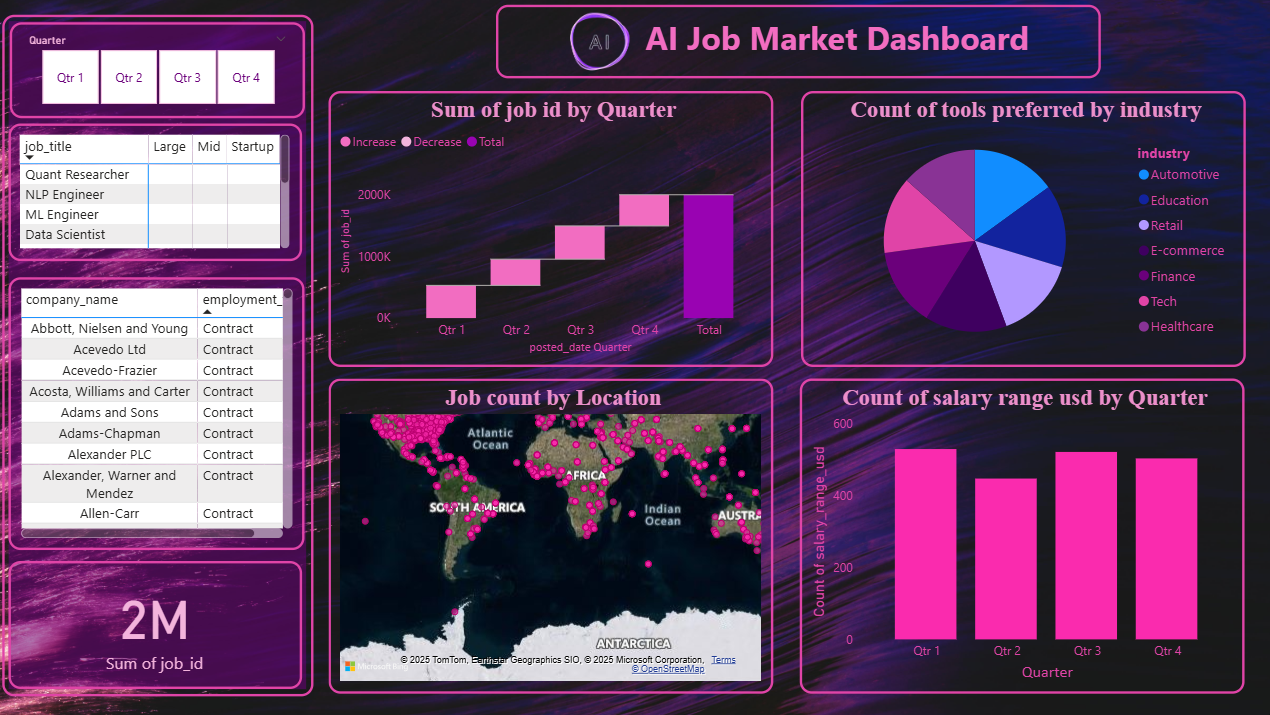

The page's visual inventory and layout, read from the dashboard file:
{"tool":"powerbi","page":{"name":"Page 1","canvas":[1280,720],"ordinal":0},"visuals":[{"type":"map","title":"Job count by Location","fields":{"Category":["ai_job_market.location"],"Size":["select"]},"box":[337.8,382.4,445.2,314.9],"z":0},{"type":"clusteredColumnChart","title":"Count of salary range usd by Quarter","fields":{"Category":["ai_job_market.posted_date.Variation.Date Hierarchy.Quarter"],"Y":["CountNonNull(ai_job_market.salary_range_usd)"]},"box":[808.3,382.4,445.2,314.9],"z":1000},{"type":"waterfallChart","title":"Sum of job id by Quarter","fields":{"Category":["ai_job_market.posted_date.Variation.Date Hierarchy.Quarter"],"Y":["Sum(ai_job_market.job_id)"]},"box":[337.8,95.3,445.2,276.3],"z":2000},{"type":"pieChart","title":"Count of tools preferred by industry","fields":{"Category":["ai_job_market.industry"],"Y":["CountNonNull(ai_job_market.tools_preferred)"]},"box":[809.5,95.3,445.2,276.3],"z":3000},{"type":"shape","box":[11,19.2,311.5,682],"z":4000},{"type":"card","fields":{"Values":["Sum(ai_job_market.job_id)"]},"box":[17.8,565.4,293.7,127.6],"z":5000},{"type":"tableEx","fields":{"Values":["ai_job_market.company_name","ai_job_market.employment_type"]},"box":[17.8,281.3,296.4,273.1],"z":6000},{"type":"pivotTable","fields":{"Rows":["ai_job_market.job_title"],"Columns":["ai_job_market.company_size"]},"box":[17.8,127.6,293.7,137.2],"z":7000},{"type":"slicer","fields":{"Values":["ai_job_market.posted_date.Variation.Date Hierarchy.Quarter"]},"box":[19.2,26.1,295,96.1],"z":8000},{"type":"textbox","box":[505.5,8.4,604.4,73.6],"z":9000},{"type":"image","box":[538.1,1.2,141.2,89.3],"z":10000}]}

Visuals, with their boxes in screenshot pixels (x1, y1, x2, y2), scaled from the page's 1280x720 canvas onto the 1270x715 screenshot:
"Job count by Location" map: pyautogui.locateOnScreen(335, 380, 777, 692)
"Count of salary range usd by Quarter" clusteredColumnChart: pyautogui.locateOnScreen(802, 380, 1244, 692)
"Sum of job id by Quarter" waterfallChart: pyautogui.locateOnScreen(335, 95, 777, 369)
"Count of tools preferred by industry" pieChart: pyautogui.locateOnScreen(803, 95, 1245, 369)
shape: pyautogui.locateOnScreen(11, 19, 320, 696)
card - Sum(ai_job_market.job_id): pyautogui.locateOnScreen(18, 561, 309, 688)
tableEx - ai_job_market.company_name x ai_job_market.employment_type: pyautogui.locateOnScreen(18, 279, 312, 551)
pivotTable - ai_job_market.job_title x ai_job_market.company_size: pyautogui.locateOnScreen(18, 127, 309, 263)
slicer - ai_job_market.posted_date.Variation.Date Hierarchy.Quarter: pyautogui.locateOnScreen(19, 26, 312, 121)
textbox: pyautogui.locateOnScreen(502, 8, 1101, 81)
image: pyautogui.locateOnScreen(534, 1, 674, 90)
